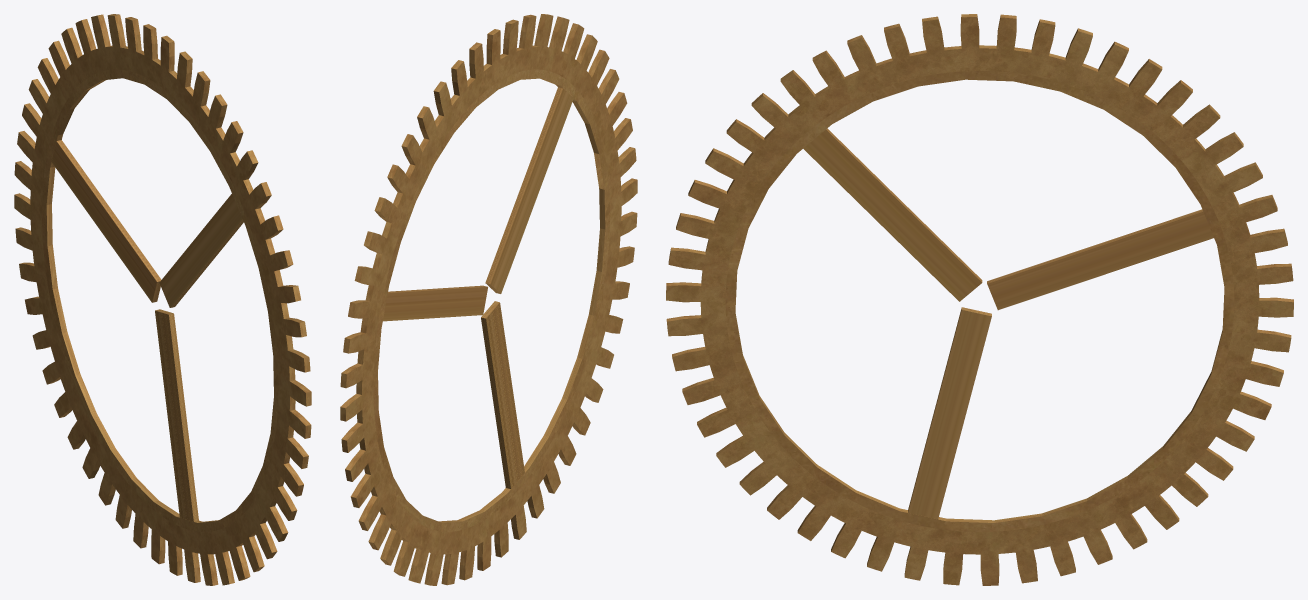
File: SoleilRoueSecondaire.fbx
3 views of the same model, side by side, from view 1: azimuth 30°, elevation 25°; view 2: azimuth 150°, elevation 25°; view 3: azimuth 270°, elevation 25° (orthographic). The views are drawn at different scales.
Visible parts, largest first — view 1: SoleilGearPetite, SoleilContourRoueSecondaire; view 2: SoleilGearPetite, SoleilContourRoueSecondaire; view 3: SoleilGearPetite, SoleilContourRoueSecondaire.
Boxes of the visible parts, left/top/right/bottom form: SoleilGearPetite: left=14, top=14, right=311, bottom=585; SoleilContourRoueSecondaire: left=42, top=69, right=278, bottom=531; SoleilGearPetite: left=340, top=14, right=637, bottom=585; SoleilContourRoueSecondaire: left=373, top=69, right=609, bottom=531; SoleilGearPetite: left=666, top=14, right=1293, bottom=585; SoleilContourRoueSecondaire: left=725, top=70, right=1234, bottom=531.
Bounding box in the file's own units: 5 × 455 × 455.
Materials: 2 (2 with a texture image).
